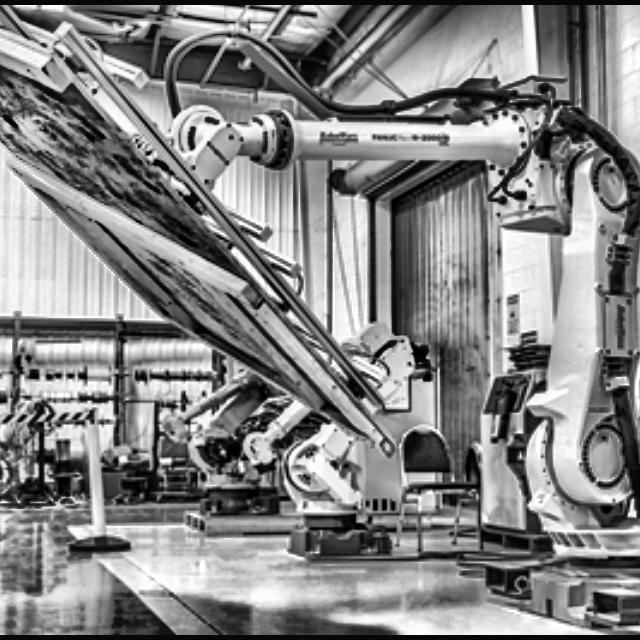robot: (162, 64, 640, 626), (246, 314, 424, 565), (163, 351, 302, 533)
